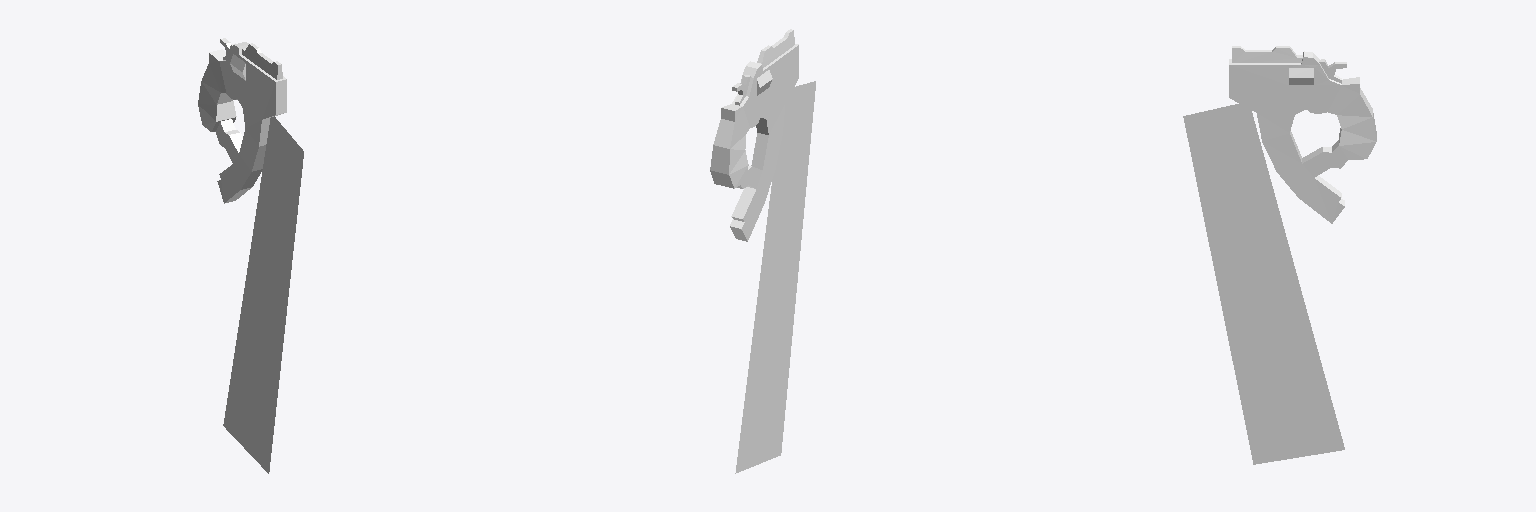
File: dualgunner00.obj
3 views of the same model, side by side, from view 1: azimuth 30°, elevation 25°; view 2: azimuth 150°, elevation 25°; view 3: azimuth 270°, elevation 25° (orthographic).
Visible parts, largest first — view 1: MDL_w2dgn00l_bod01.001, MDL_w2dgn00l_bod00; view 2: MDL_w2dgn00l_bod01.001, MDL_w2dgn00l_bod00; view 3: MDL_w2dgn00l_bod01.001, MDL_w2dgn00l_bod00.
Part boxes in pixels (x1,y1,x2,y2): MDL_w2dgn00l_bod01.001: (223,116,303,473); MDL_w2dgn00l_bod00: (198,38,286,203); MDL_w2dgn00l_bod01.001: (735,81,815,473); MDL_w2dgn00l_bod00: (710,29,798,241); MDL_w2dgn00l_bod01.001: (1183,104,1344,464); MDL_w2dgn00l_bod00: (1229,46,1376,223).
Size of the model in its own units: 0.0414 by 0.8125 by 0.3412.